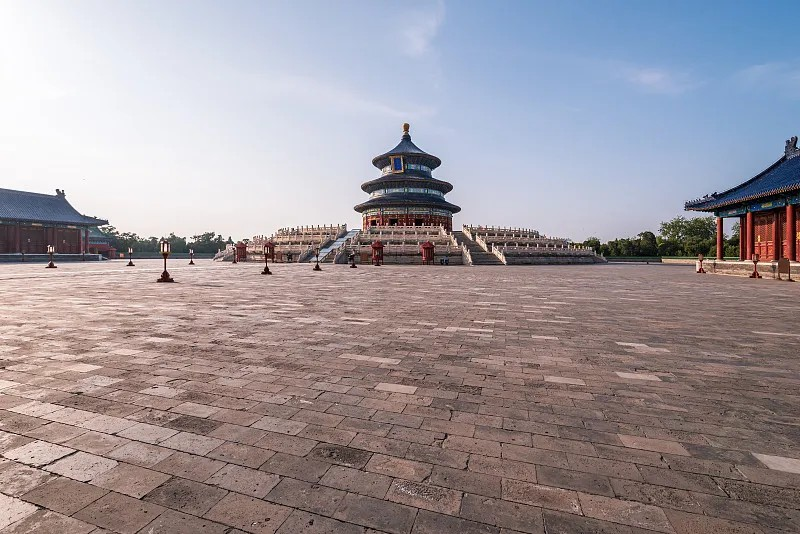Heaven: (352, 123, 462, 232)
